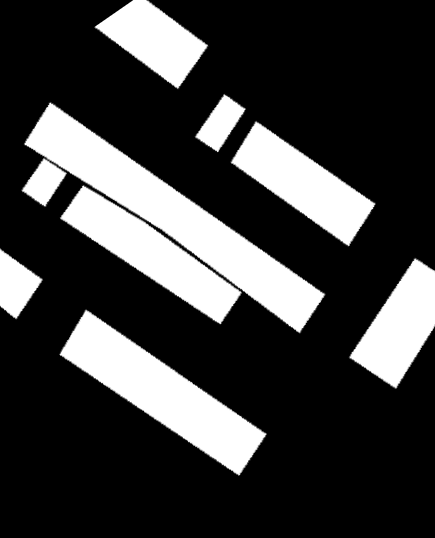parkingspot: (22, 103, 325, 333), (60, 310, 266, 475), (60, 186, 242, 324), (231, 122, 375, 246), (350, 258, 435, 388), (95, 0, 208, 89), (0, 249, 42, 319), (195, 94, 245, 152), (47, 159, 50, 162)
